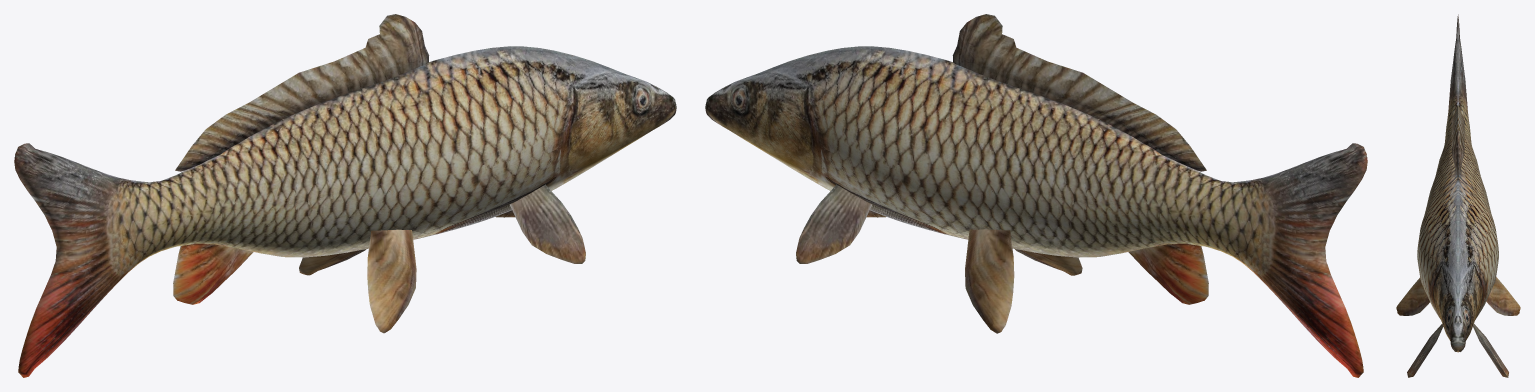
Rendered from Fish 1.fbx.
3 renders of one model, left to right at view 1: azimuth 30°, elevation 25°; view 2: azimuth 150°, elevation 25°; view 3: azimuth 270°, elevation 25°, orthographic. The views are drawn at different scales.
Parts seen in each view (by area): view 1: Fish_1; view 2: Fish_1; view 3: Fish_1.
Boxes of the visible parts, x1,y1,x2,y2 form: Fish_1: [14, 14, 676, 377]; Fish_1: [705, 14, 1367, 377]; Fish_1: [1396, 14, 1520, 377].
Size of the model in its own units: 14.81 by 5.95 by 3.19.
Materials: 1 (1 with a texture image).
